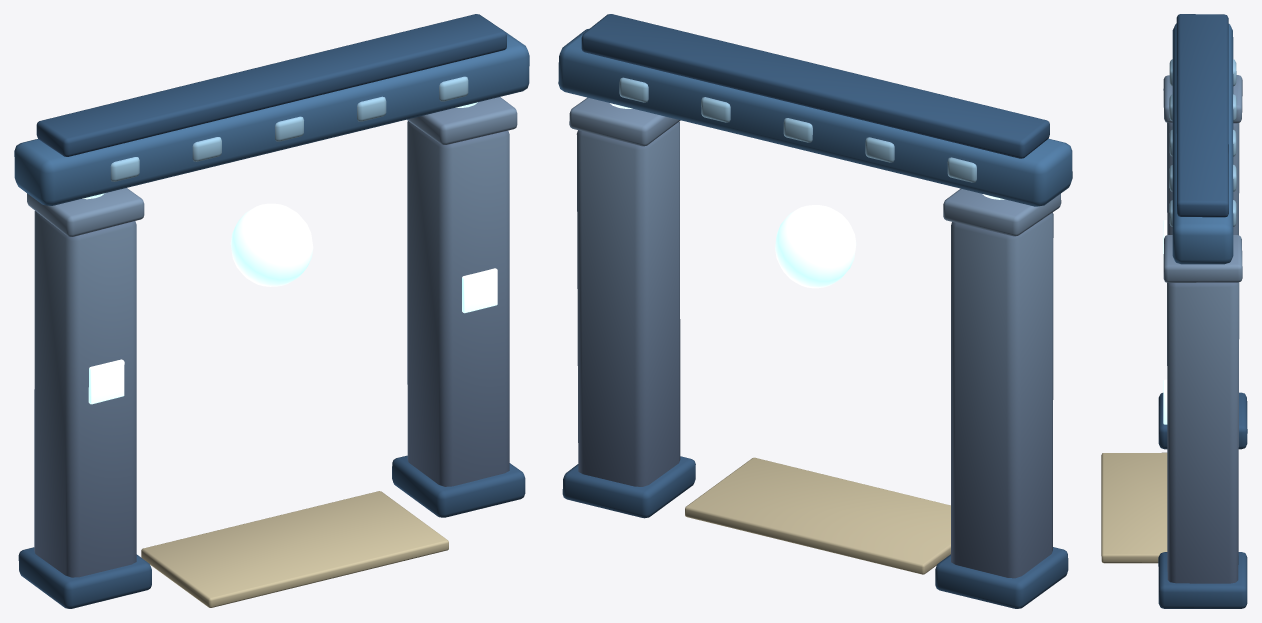
3 renders of one model, left to right at view 1: azimuth 30°, elevation 25°; view 2: azimuth 150°, elevation 25°; view 3: azimuth 270°, elevation 25°, orthographic. The views are drawn at different scales.
Visible parts, largest first — view 1: gate_f77fddb6; view 2: gate_f77fddb6; view 3: gate_f77fddb6.
Part boxes in pixels (x1,y1,x2,y2): gate_f77fddb6: (14, 14, 529, 608); gate_f77fddb6: (558, 14, 1072, 608); gate_f77fddb6: (1101, 14, 1247, 608).
Bounding box in the file's own units: 4.88 × 4.41 × 1.44.
